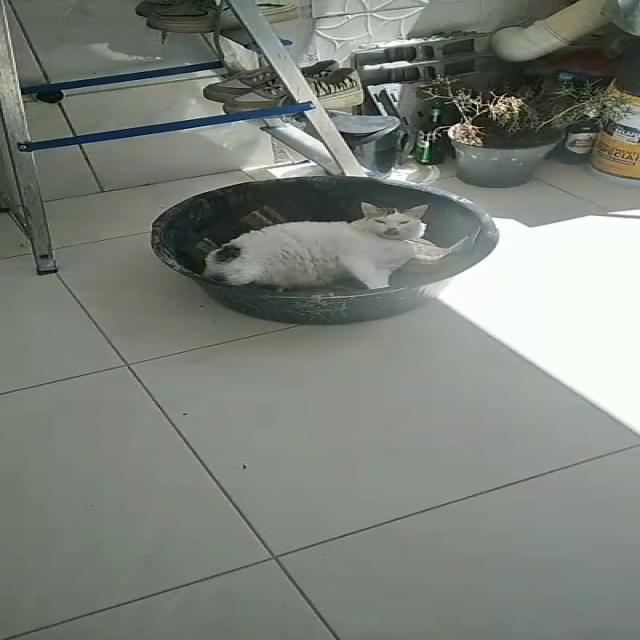Simba: (193, 193, 497, 298)
